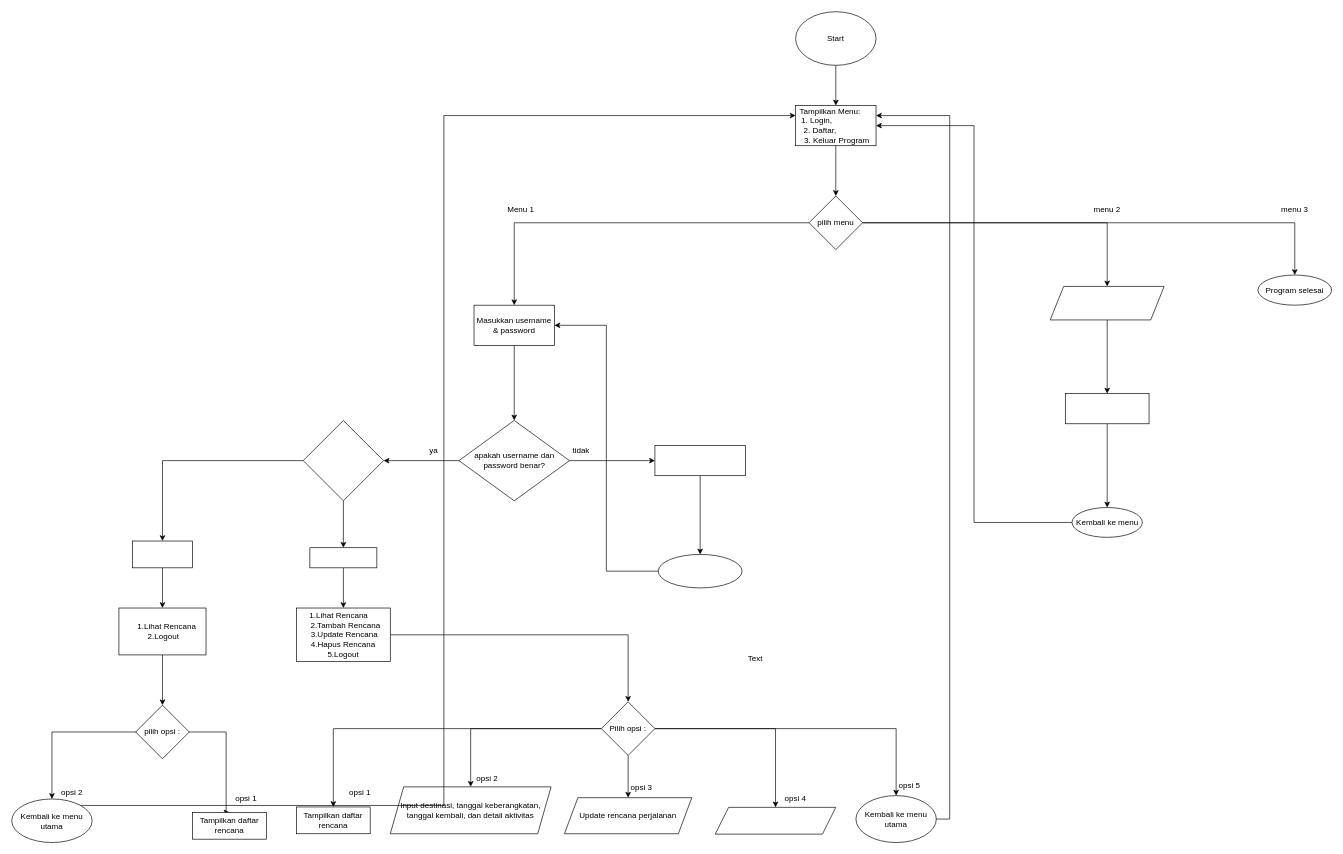
Some shapes in this 1343 by 854 pixel diagram are drawn without their labels. Here are the shapes that lost their labels. From the top down, the centre of each, then its label:
At pixel 1107 303: "masukkanusername dan password baru".
At pixel 1107 408: "Tambahkan akun baru".
At pixel 343 460: "Menu admin atau user biasa".
At pixel 699 460: "username atau password salah".
At pixel 162 554: "menu user".
At pixel 343 557: "Menu admin".
At pixel 700 571: "Coba login kembali".
At pixel 775 820: "Input nomor rencana untuk dihapus".
